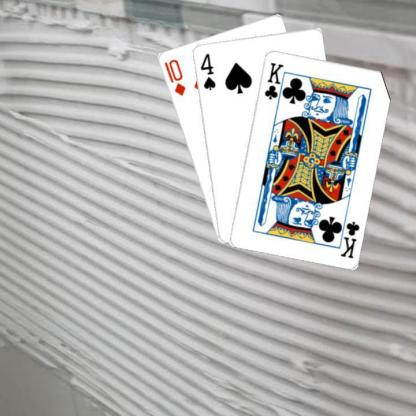10D: (161, 56, 187, 97)
4S: (197, 51, 217, 92)
KC: (334, 212, 360, 260), (262, 60, 287, 106)
